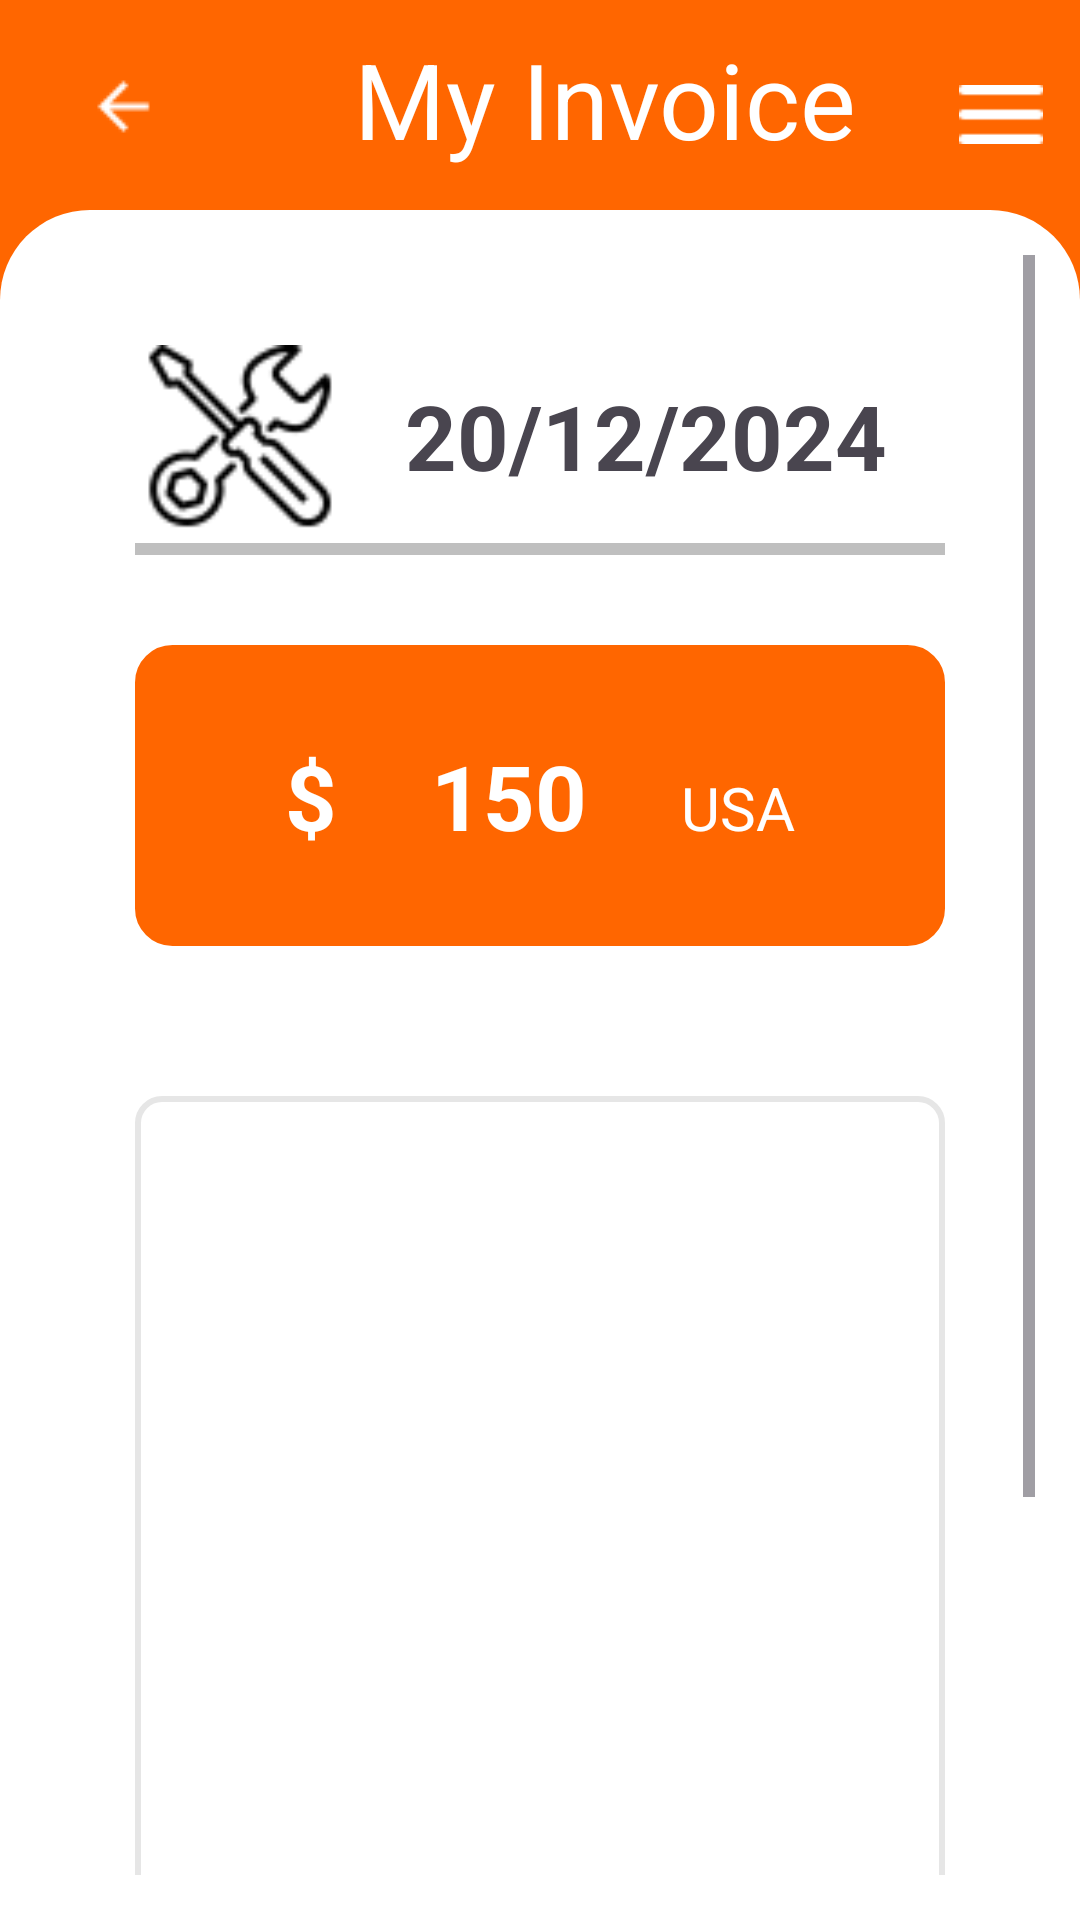

Where to tap for icons on this 1080 x 1920 app screen, as point (x, y):
arrow back: point (123, 106)
menu: point (1001, 114)
tools: point (240, 436)
